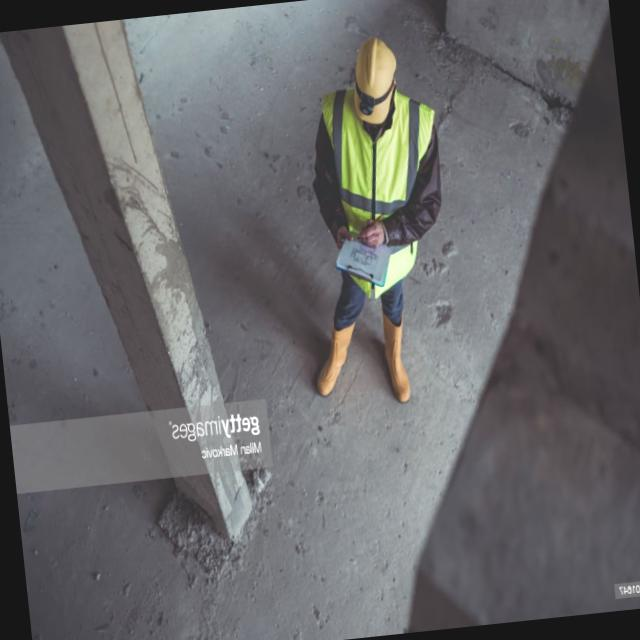helmet: (341, 30, 409, 129)
vest: (326, 127, 431, 286)
